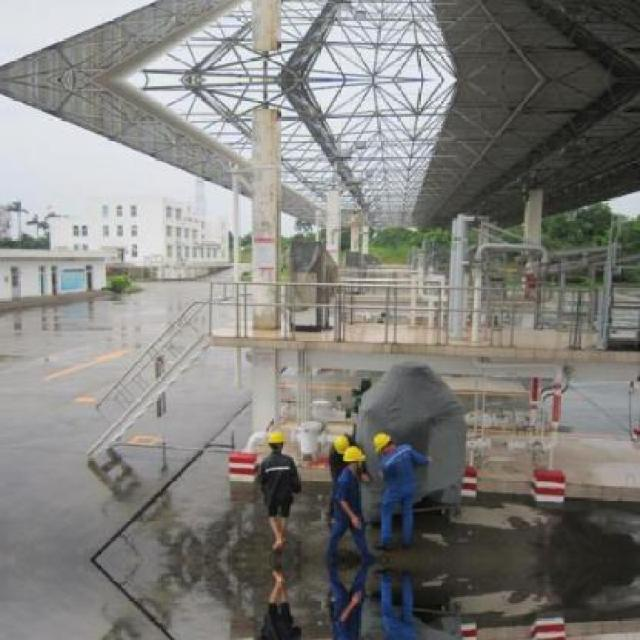helmet: (340, 443, 368, 471), (368, 432, 398, 454), (266, 430, 288, 453), (328, 434, 352, 454)
